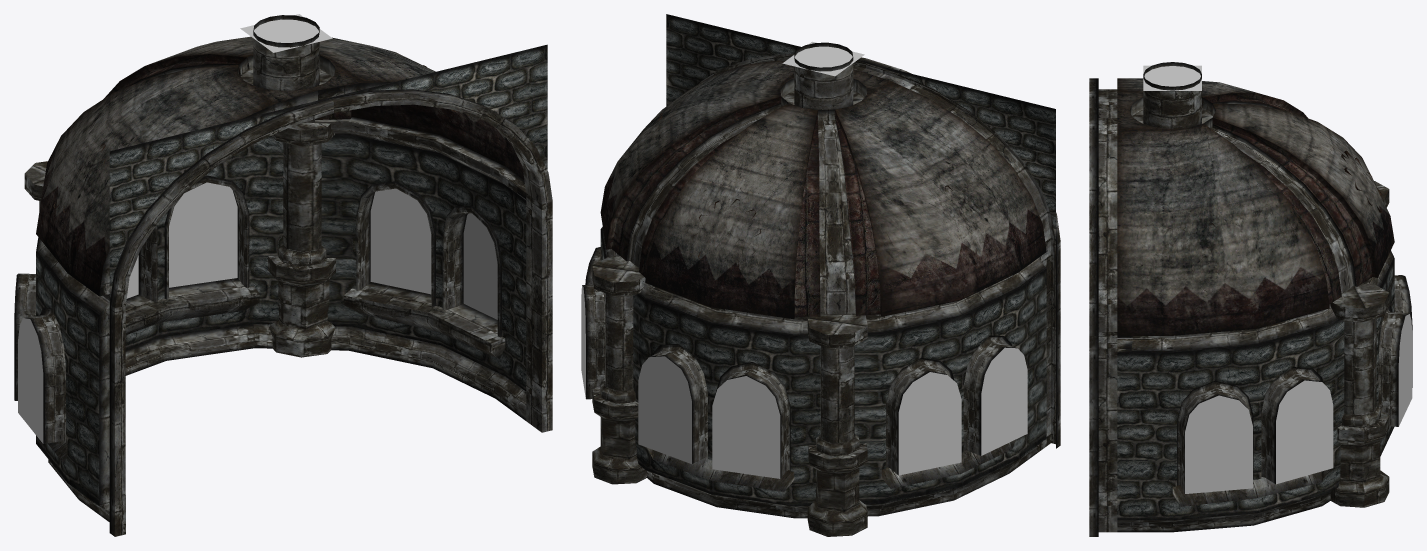
Rendered from 180_rounded_wall.dae.
3 views of the same model, side by side, from view 1: azimuth 30°, elevation 25°; view 2: azimuth 150°, elevation 25°; view 3: azimuth 270°, elevation 25° (orthographic). The views are drawn at different scales.
Visible parts, largest first — view 1: polySurface176, polySurface194, polySurface177, polySurface196; view 2: polySurface176, polySurface194, polySurface177, polySurface196; view 3: polySurface176, polySurface194, polySurface177, polySurface196.
Part boxes in pixels (x1,y1,x2,y2): polySurface176: (14, 15, 552, 536); polySurface194: (36, 36, 524, 295); polySurface177: (18, 14, 497, 443); polySurface196: (24, 123, 335, 357); polySurface176: (582, 14, 1060, 518); polySurface194: (600, 60, 1046, 319); polySurface177: (581, 41, 1027, 478); polySurface196: (592, 256, 867, 536); polySurface176: (1089, 62, 1412, 536); polySurface194: (1117, 78, 1394, 335); polySurface177: (1143, 65, 1412, 493); polySurface196: (1330, 181, 1389, 507).
Bounding box in the file's own units: 12.95 × 11 × 8.73.
